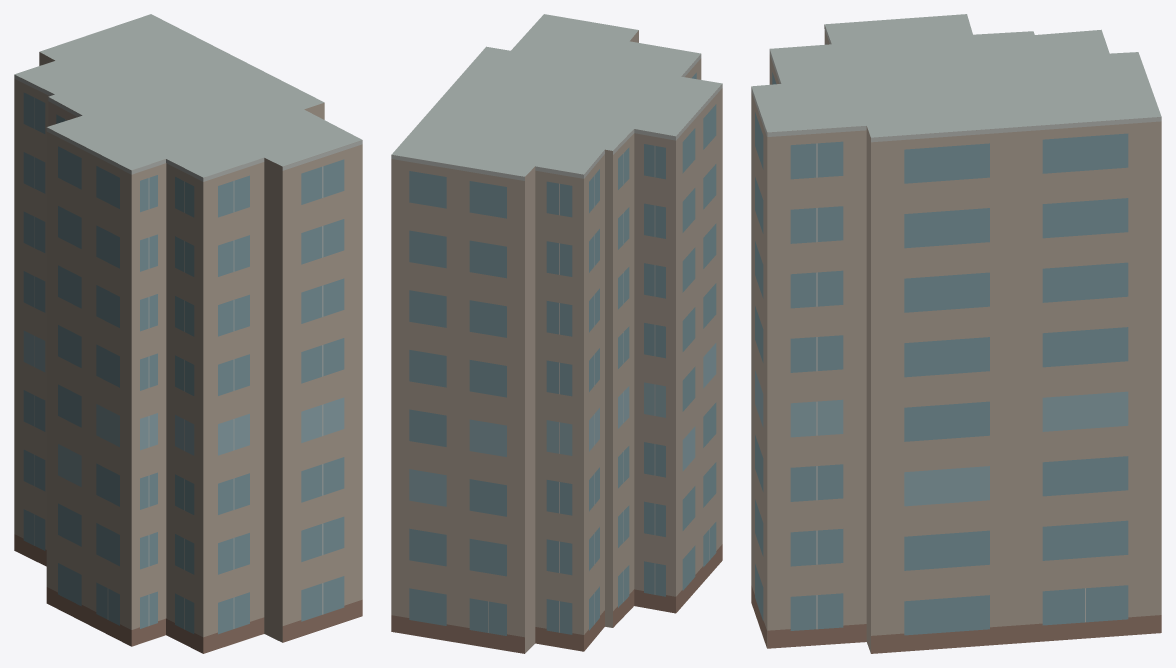
The model's file is survey-upis-32953689.glb.
3 views of the same model, side by side, from view 1: azimuth 30°, elevation 25°; view 2: azimuth 150°, elevation 25°; view 3: azimuth 270°, elevation 25° (orthographic). The views are drawn at different scales.
Parts seen in each view (by area): view 1: survey-upis-32953689.tmp; view 2: survey-upis-32953689.tmp; view 3: survey-upis-32953689.tmp.
Part boxes in pixels (x1,y1,x2,y2): survey-upis-32953689.tmp: (14,14,362,653); survey-upis-32953689.tmp: (391,14,722,653); survey-upis-32953689.tmp: (751,14,1161,653).
Size of the model in its own units: 13.99 by 27.2 by 19.6.
